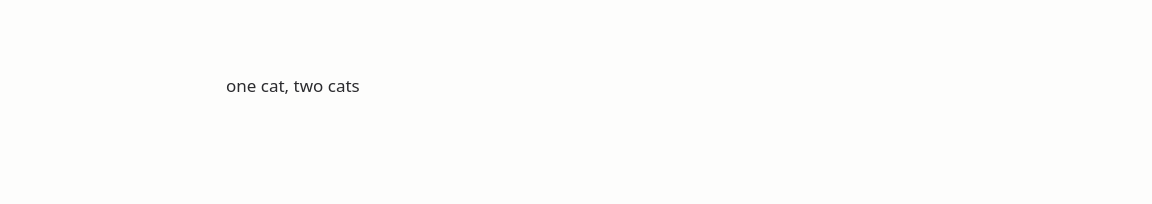
Test case: Editor › finds and replaces text from a panel opened with Ctrl+F
Step 1. Type keys "{Control>}f{/Control}"
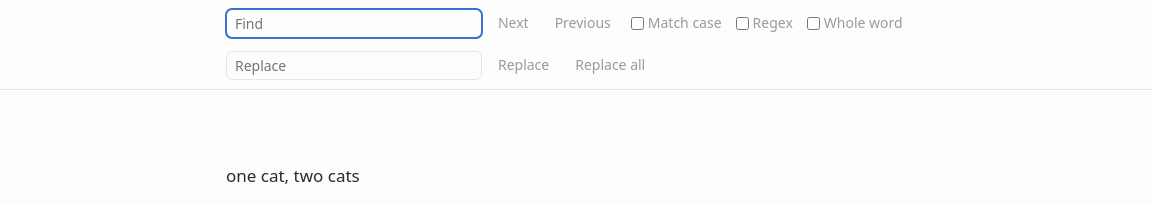
Step 2. Type "cat" into the field labelled "Find" → (354, 23), box [226, 9, 482, 38]
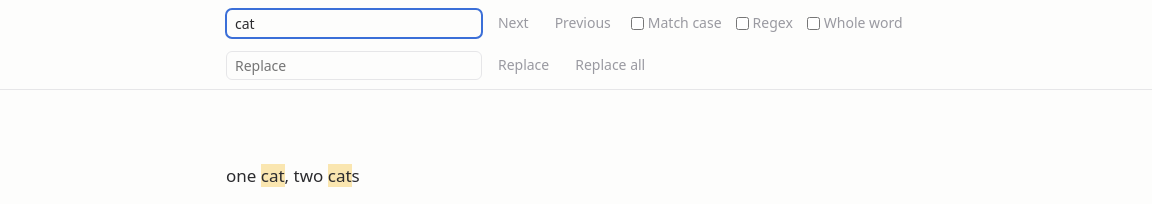
Step 3. Type "dog" into the field labelled "Replace" → (354, 66), box [226, 51, 482, 80]
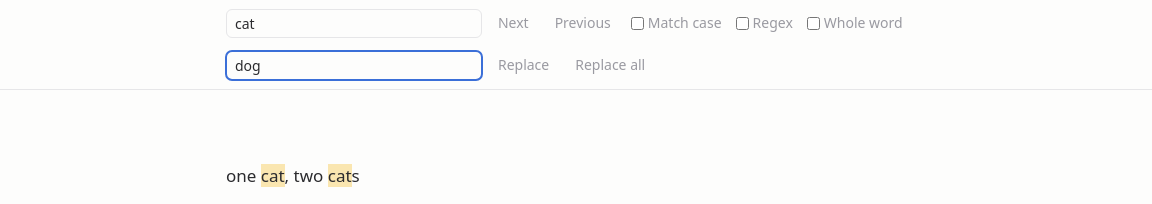
Step 4. Click the button "Replace all" → (610, 66), box [565, 50, 655, 81]
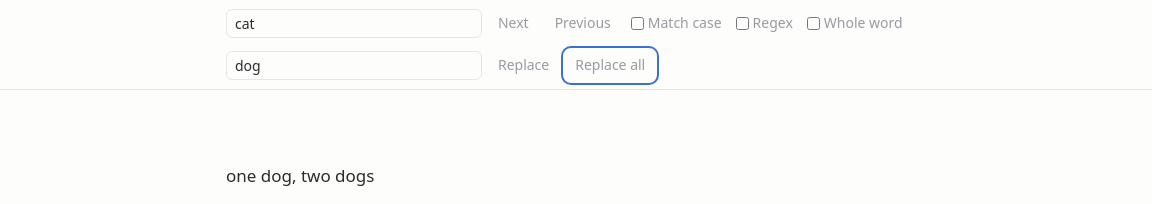
expect the text box labelled "one dog, two dogs" is shown: met, box [226, 164, 374, 187]
Step 5. Press Escape
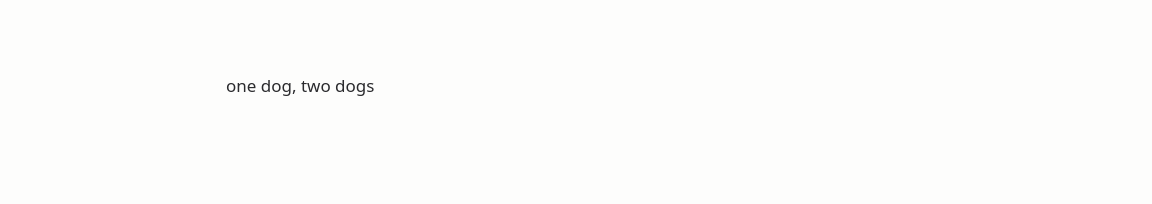
expect the field labelled "Find" is gone: met
